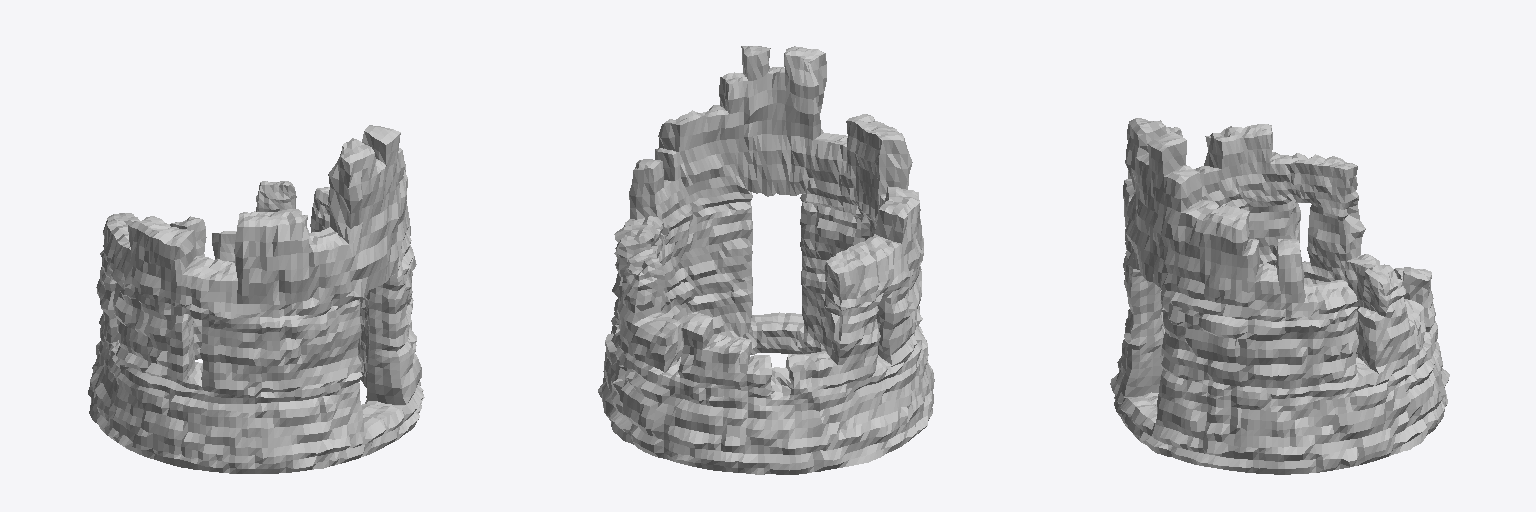
The model's file is old tower 2.obj.
The picture shows the model from 3 angles: view 1: azimuth 30°, elevation 25°; view 2: azimuth 150°, elevation 25°; view 3: azimuth 270°, elevation 25°; orthographic projection.
Parts seen in each view (by area): view 1: pack_oldtowers; view 2: pack_oldtowers; view 3: pack_oldtowers.
Part boxes in pixels (x1,y1,x2,y2): pack_oldtowers: (88,125,424,473); pack_oldtowers: (598,46,934,474); pack_oldtowers: (1110,118,1449,474).
Size of the model in its own units: 45.82 by 45.35 by 46.05.